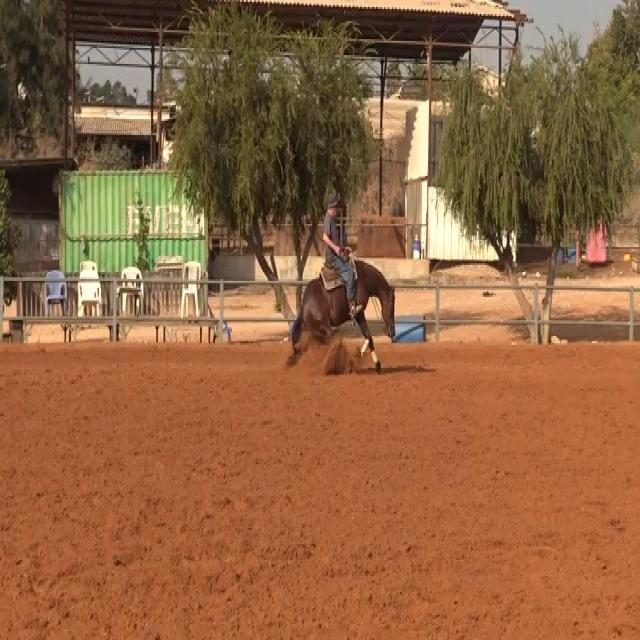horse: (286, 252, 397, 374)
